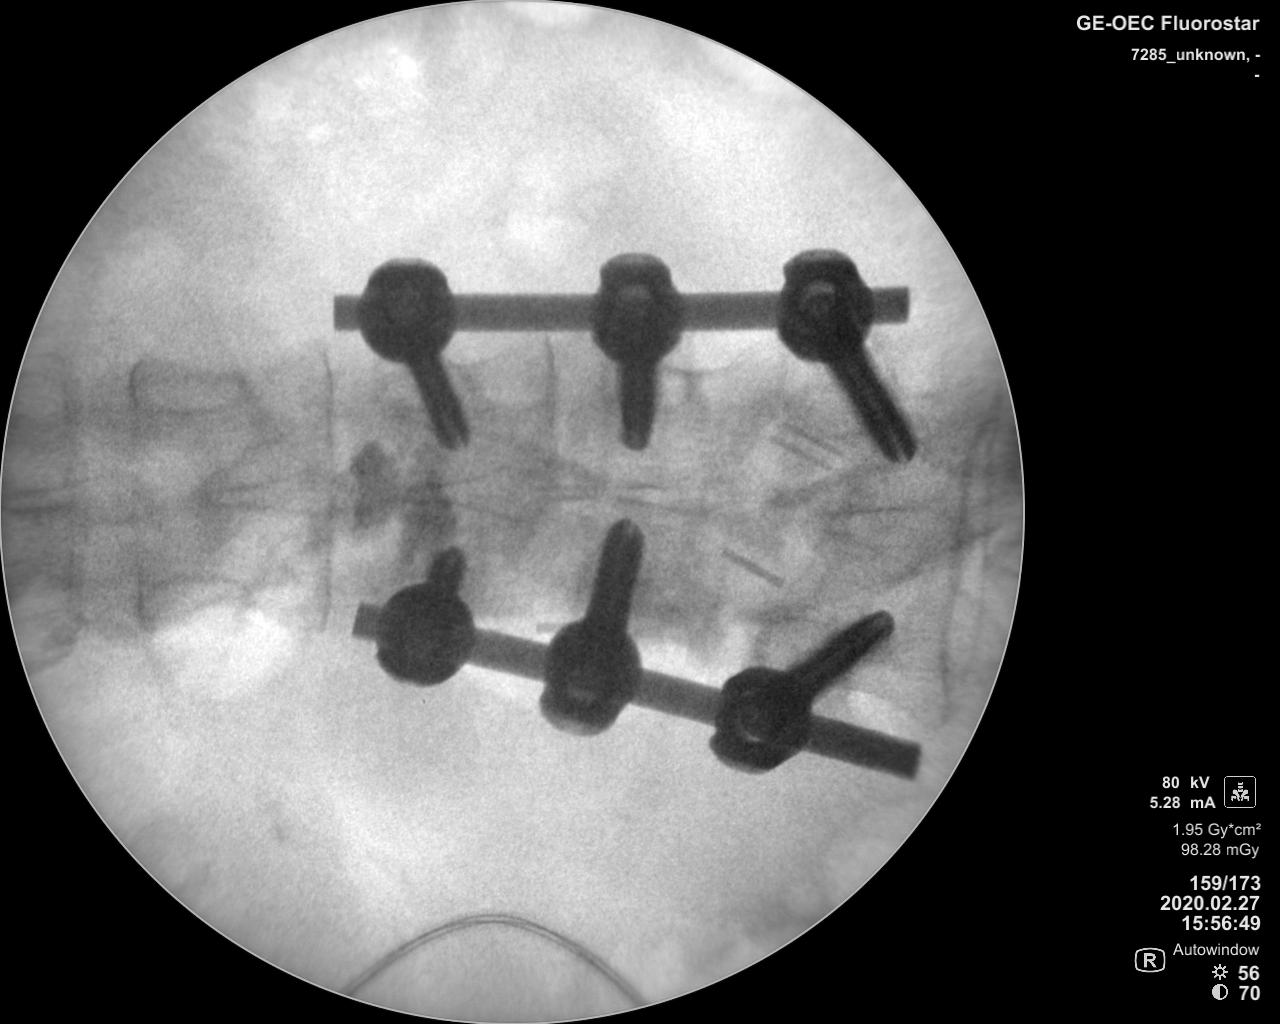eyes: (133, 569, 251, 634), (126, 360, 246, 415), (609, 360, 690, 406)
line: (938, 379, 995, 727), (117, 357, 153, 649), (55, 368, 87, 652), (528, 331, 558, 615), (310, 346, 338, 634)
nose: (389, 464, 549, 523), (1, 474, 148, 530), (200, 469, 354, 521), (606, 474, 736, 516)
